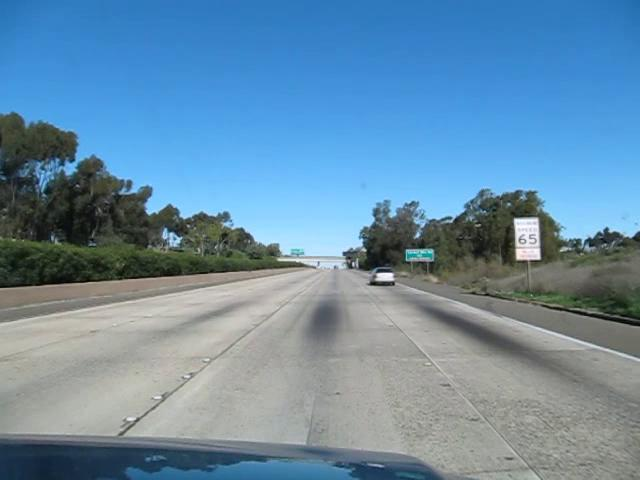speedLimit65: (513, 216, 541, 248)
